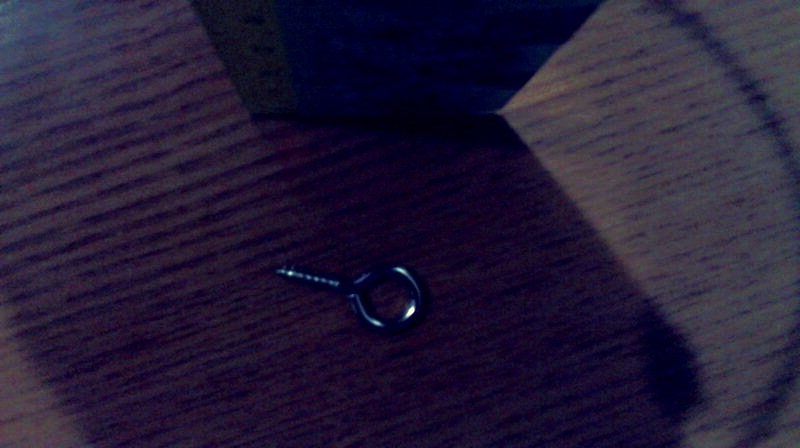O001: (267, 254, 430, 337)
